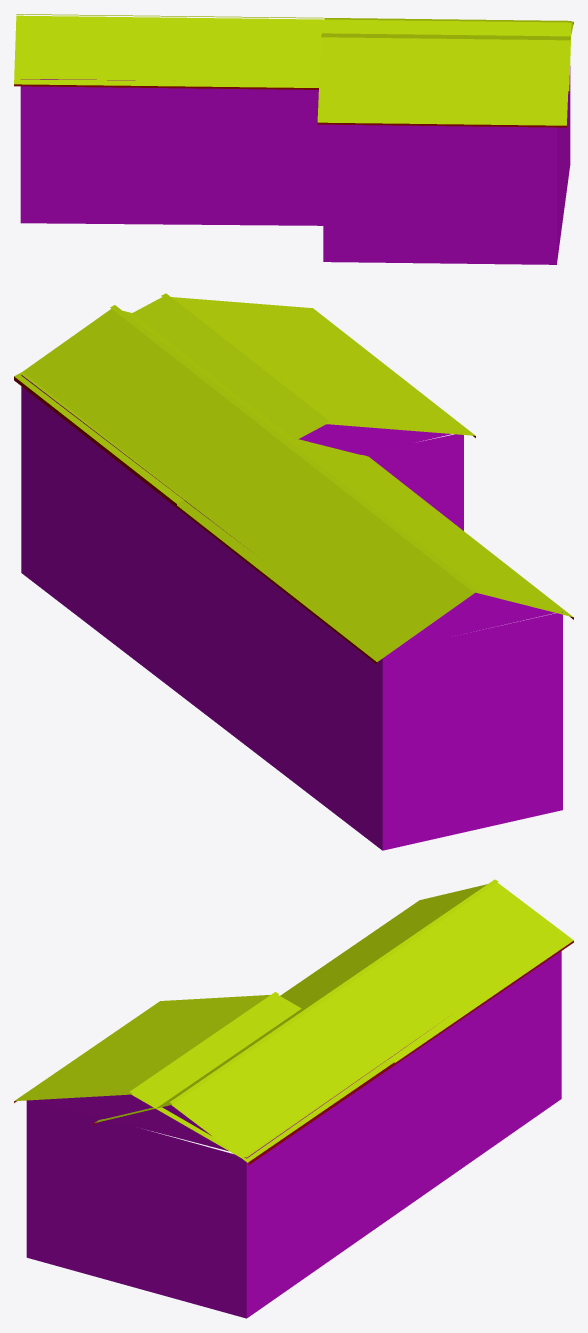
Rendered from fav_7.glb.
The picture shows the model from 3 angles, top to bottom: view 1: azimuth 30°, elevation 25°; view 2: azimuth 150°, elevation 25°; view 3: azimuth 270°, elevation 25°; orthographic projection. The views are drawn at different scales.
Parts seen in each view (by area): view 1: fav_7; view 2: fav_7; view 3: fav_7.
Boxes of the visible parts, left/top/right/bottom form: fav_7: left=14, top=14, right=573, bottom=264; fav_7: left=14, top=293, right=573, bottom=850; fav_7: left=14, top=879, right=573, bottom=1318.
Bounding box in the file's own units: 32.19 × 11.29 × 28.93.
